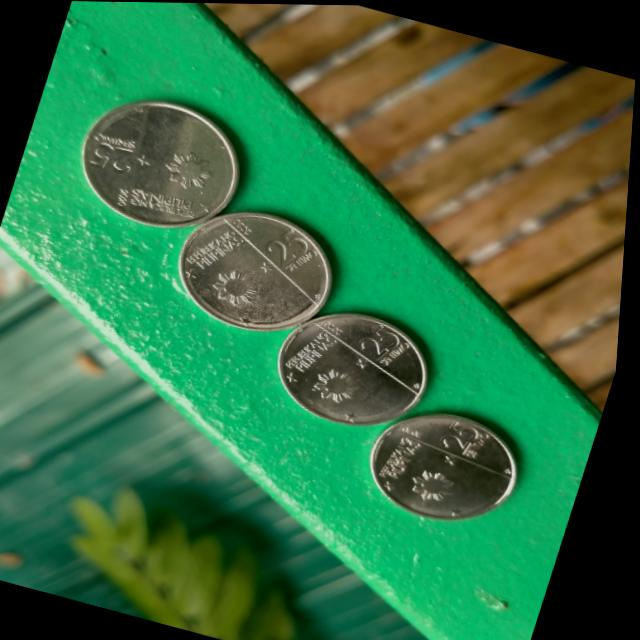25Cent_New_Front: (168, 197, 332, 326), (372, 399, 506, 524)
